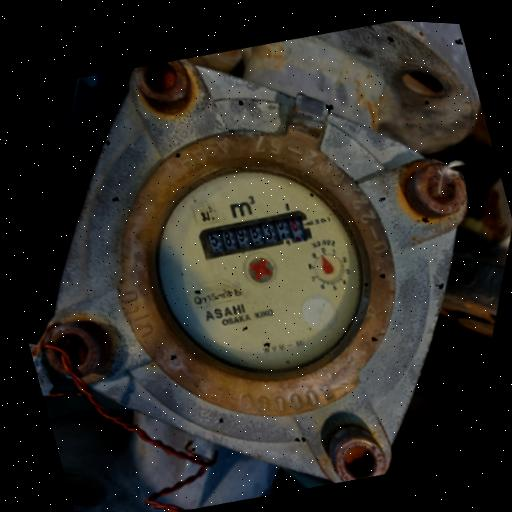0: (275, 217, 290, 240)
3: (262, 219, 277, 242)
5: (207, 230, 224, 253)
8: (288, 215, 304, 242), (221, 227, 236, 250), (248, 222, 263, 245)
9: (235, 225, 249, 248)
border_water_meter_number: (196, 203, 316, 266)
